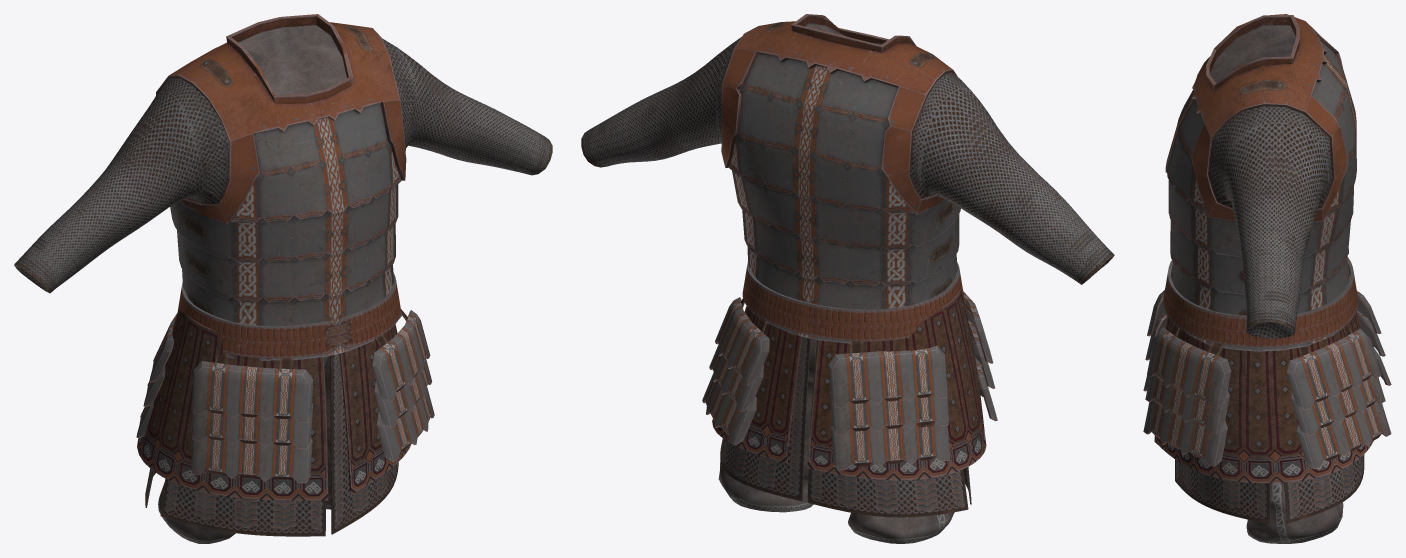
File: sk_dwarf_dain_chest_heavy_b.fbx
3 renders of one model, left to right at view 1: azimuth 30°, elevation 25°; view 2: azimuth 150°, elevation 25°; view 3: azimuth 270°, elevation 25°, orthographic. The views are drawn at different scales.
Visible parts, largest first — view 1: sk_dwarf_dain_chest_heavy_b.0, sk_dwarf_dain_chest_heavy_b.1; view 2: sk_dwarf_dain_chest_heavy_b.0, sk_dwarf_dain_chest_heavy_b.1; view 3: sk_dwarf_dain_chest_heavy_b.0, sk_dwarf_dain_chest_heavy_b.1, sk_dwarf_dain_chest_heavy_b.2.
Boxes of the visible parts, x1,y1,x2,y2 form: sk_dwarf_dain_chest_heavy_b.0: (14, 14, 552, 543); sk_dwarf_dain_chest_heavy_b.1: (136, 309, 434, 536); sk_dwarf_dain_chest_heavy_b.0: (581, 14, 1114, 543); sk_dwarf_dain_chest_heavy_b.1: (702, 290, 997, 517); sk_dwarf_dain_chest_heavy_b.0: (1163, 14, 1358, 543); sk_dwarf_dain_chest_heavy_b.1: (1143, 290, 1391, 523); sk_dwarf_dain_chest_heavy_b.2: (1170, 323, 1351, 356).
Size of the model in its own units: 1.16 by 0.4933 by 1.03.
3 materials, 3 textured.
